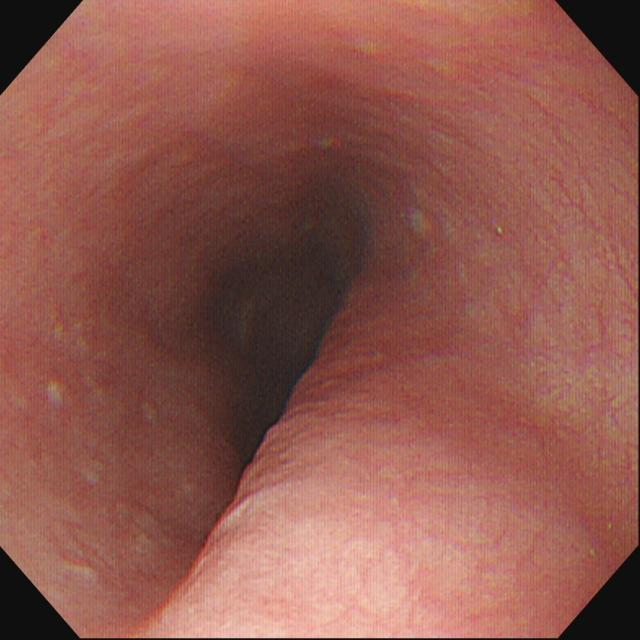E: (200, 235, 358, 469)
